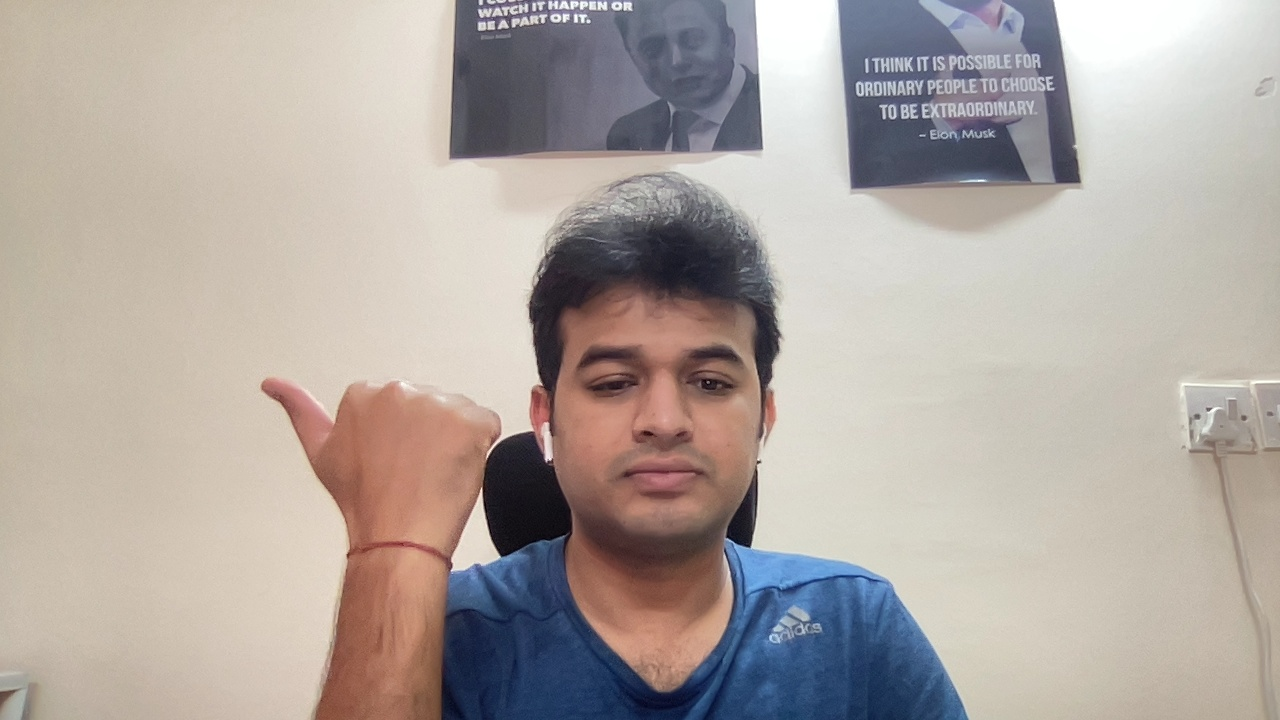right: (249, 367, 507, 542)
